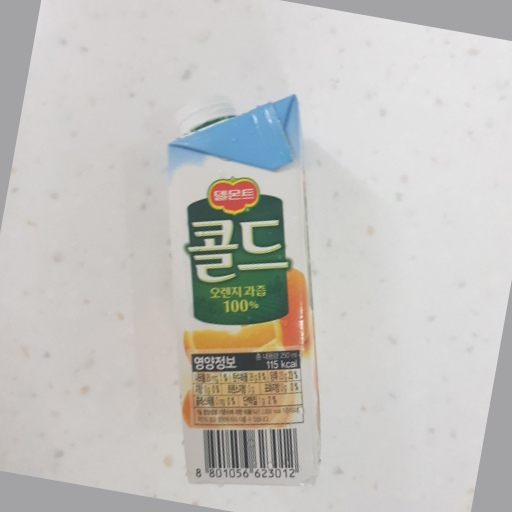Paper_0: (168, 94, 330, 496)
